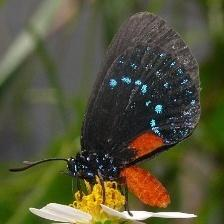butterfly: (68, 12, 201, 208)
